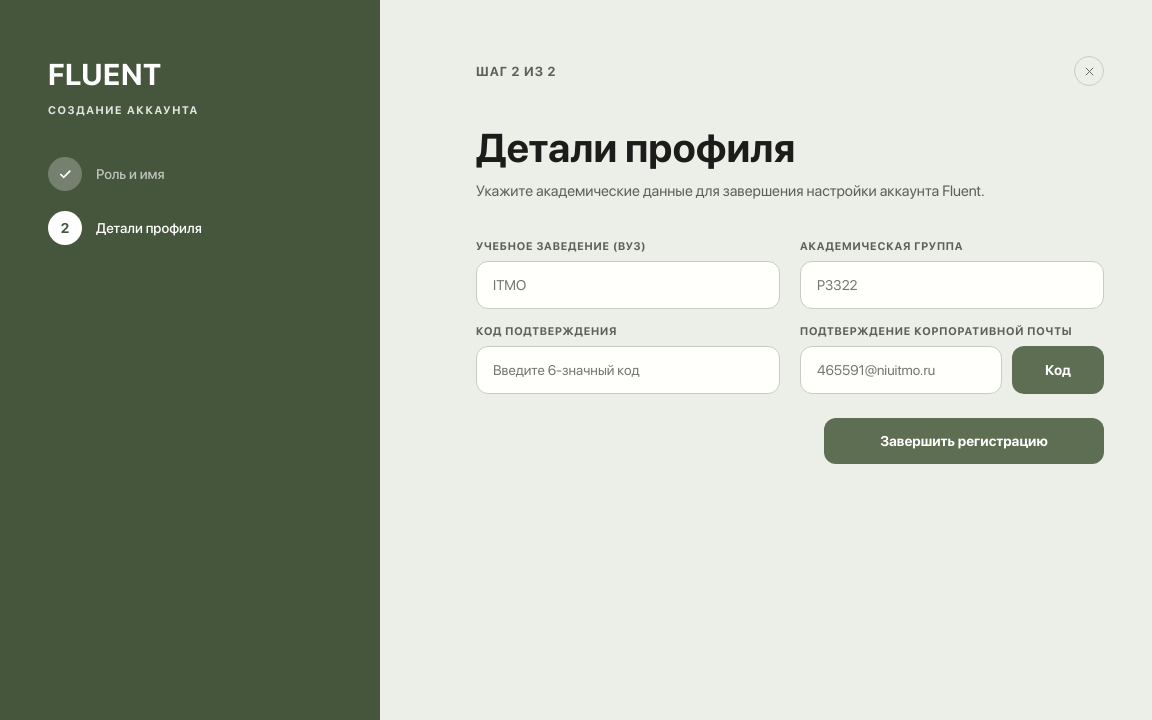
Test case: RegistrationDetailsPage.vue › показывает ошибку при пустом email при отправке кода
This screenshot has width=1152, height=720.
Click the button with class "code-btn": coordinates (1058, 370) x1=1012 y1=346 x2=1104 y2=394
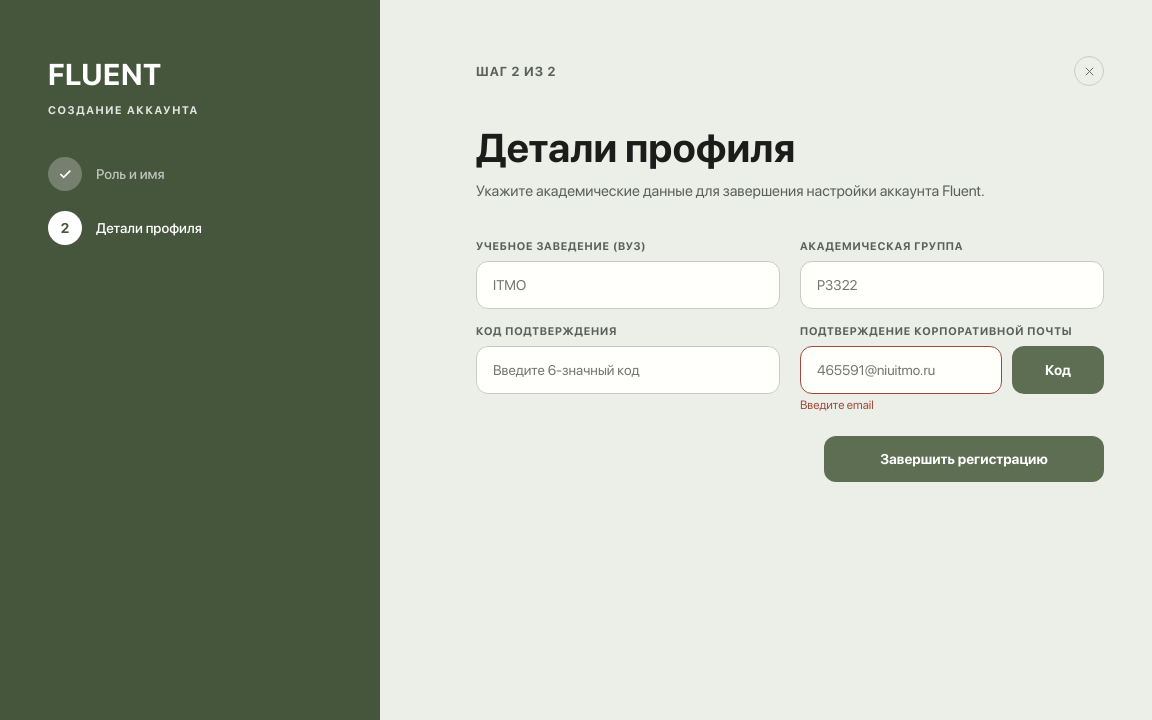
Now the text "Введите email" is shown, box x1=800 y1=398 x2=874 y2=412
